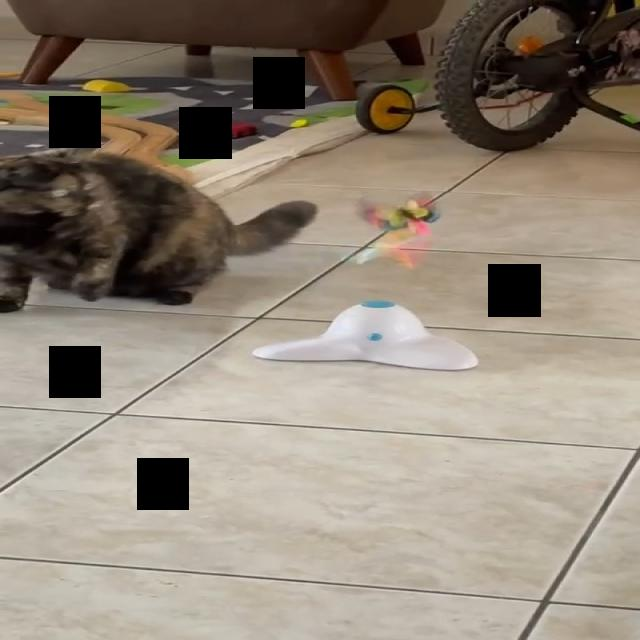authorized: (0, 144, 317, 312)
